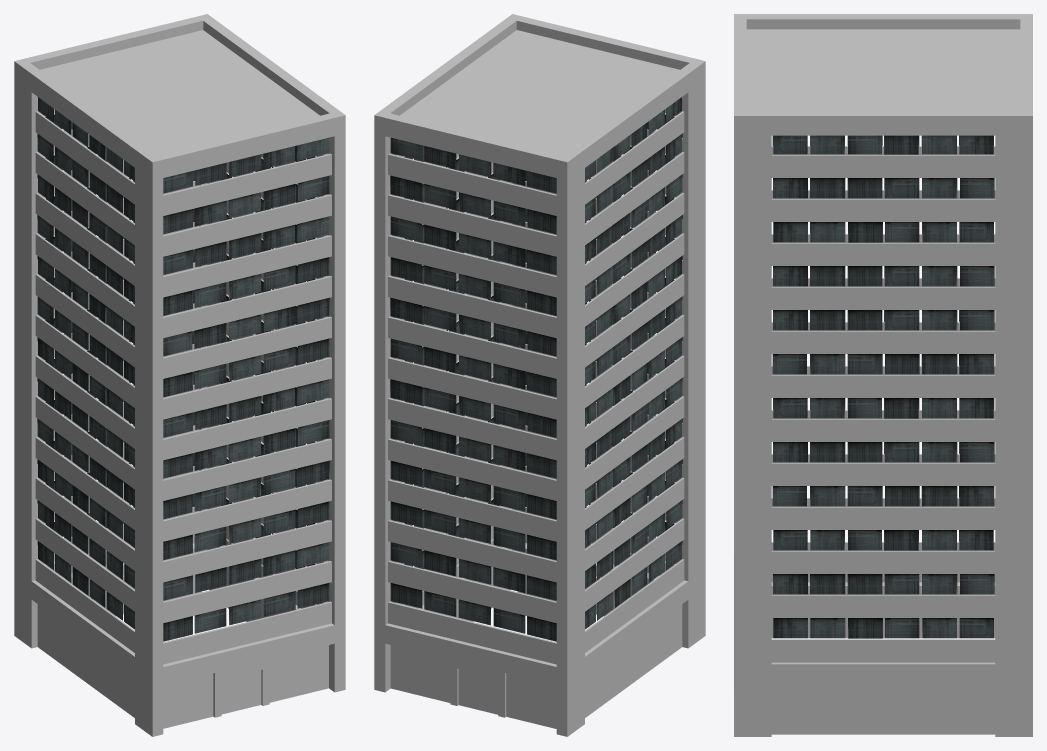
3 views of the same model, side by side, from view 1: azimuth 30°, elevation 25°; view 2: azimuth 150°, elevation 25°; view 3: azimuth 270°, elevation 25° (orthographic). The views are drawn at different scales.
Parts seen in each view (by area): view 1: BC-096; view 2: BC-096; view 3: BC-096.
Part boxes in pixels (box(x1,y1,x2,y2)): BC-096: box(14, 14, 345, 736); BC-096: box(374, 14, 705, 736); BC-096: box(734, 14, 1032, 736).
Size of what is drawn, in the model's own units: 15.06 by 42.79 by 18.66.
